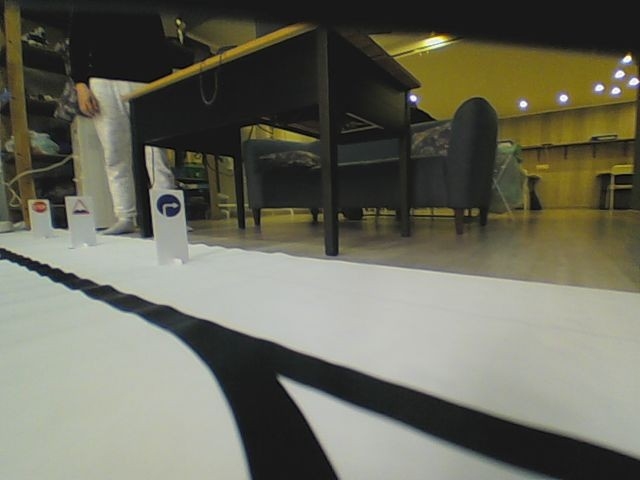Nerov: (71, 199, 89, 215)
Right: (154, 193, 181, 219)
Stop: (32, 200, 46, 215)
